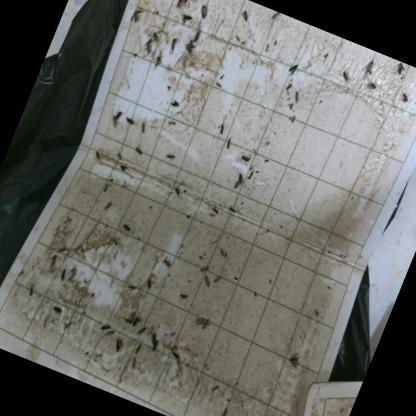prays_oleae: (120, 303, 139, 332), (283, 348, 303, 374), (178, 38, 196, 63), (198, 271, 216, 292), (110, 334, 127, 356), (336, 66, 354, 86), (211, 264, 226, 288), (157, 254, 175, 274), (128, 6, 146, 25), (130, 140, 147, 160), (140, 35, 156, 56), (189, 25, 204, 47), (170, 0, 192, 15), (361, 55, 377, 75), (170, 180, 186, 200), (140, 274, 156, 294), (224, 201, 240, 221), (214, 245, 229, 266), (167, 94, 183, 113), (235, 8, 254, 24), (130, 340, 145, 360), (115, 158, 130, 178), (122, 112, 138, 130), (101, 197, 116, 216), (396, 89, 412, 106), (151, 51, 166, 69), (50, 302, 64, 321), (90, 146, 106, 162), (165, 35, 180, 52), (110, 108, 124, 126), (47, 253, 60, 272), (391, 60, 406, 76), (196, 4, 211, 20), (97, 320, 112, 336), (214, 121, 228, 138), (176, 287, 190, 304), (163, 147, 178, 162), (136, 119, 150, 135), (238, 148, 252, 164), (290, 87, 304, 103), (102, 326, 116, 342), (135, 322, 148, 339), (130, 314, 142, 332), (364, 78, 378, 93), (120, 219, 134, 234), (98, 180, 112, 195), (287, 60, 300, 76), (223, 135, 234, 153), (235, 170, 248, 185), (216, 404, 231, 416), (58, 265, 70, 279), (150, 338, 162, 352), (179, 12, 193, 24), (208, 204, 219, 219), (197, 262, 210, 274), (230, 178, 240, 191), (270, 10, 280, 22), (129, 358, 138, 371), (149, 334, 157, 346)
